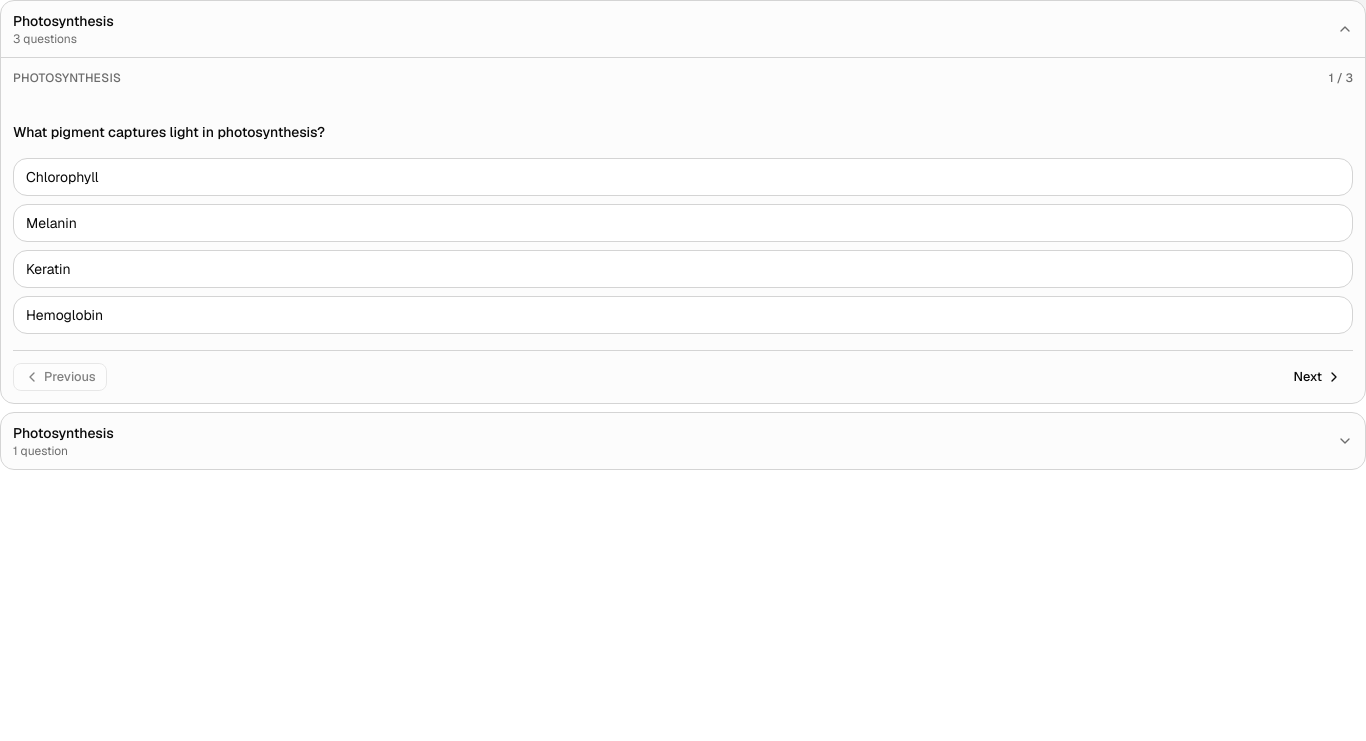
it: QuizPanel multiple quizzes › expanding a collapsed quiz reveals it without disturbing the other quiz's state
Click the button "Chlorophyll".
click(62, 177)  # box x1=13 y1=158 x2=1353 y2=196
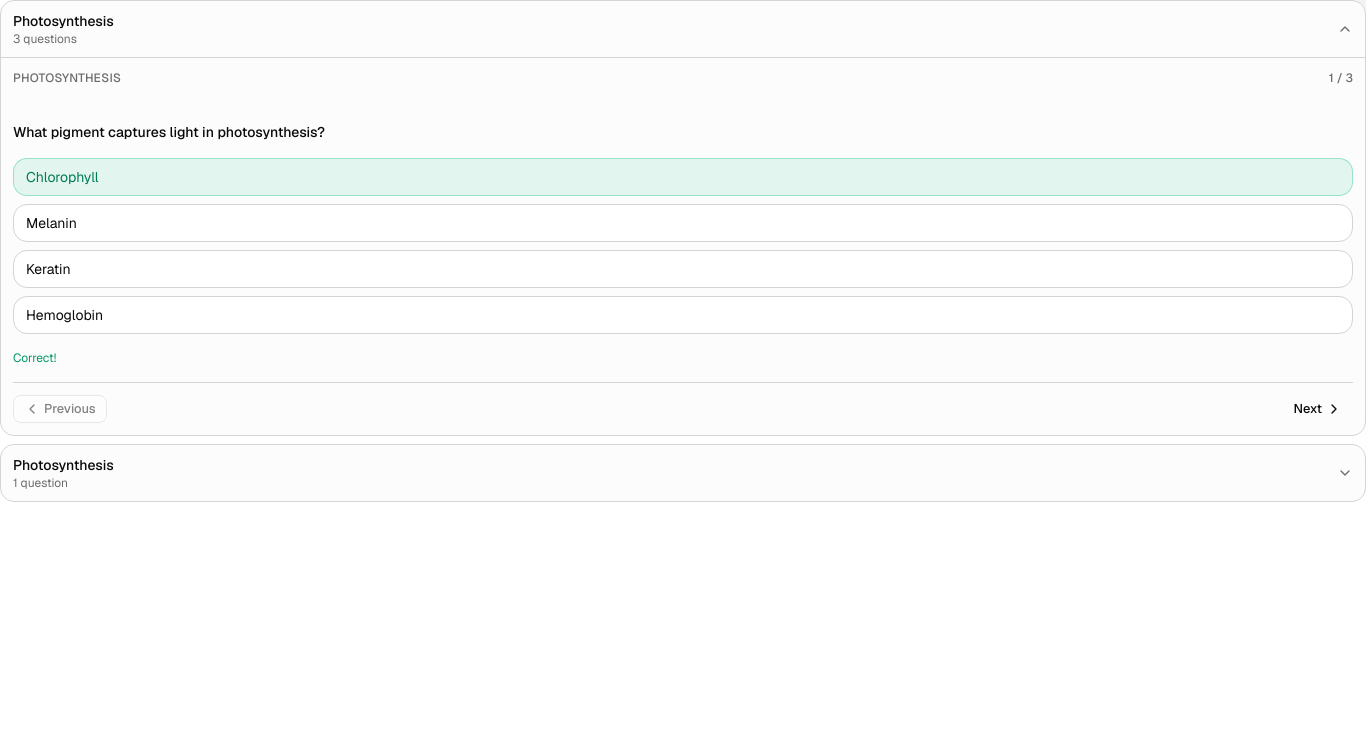
Expected: the text "Correct!" is shown, x1=13 y1=350 x2=56 y2=366
Click the button "Photosynthesis 1 question".
click(63, 465)  # box x1=1 y1=445 x2=1365 y2=501
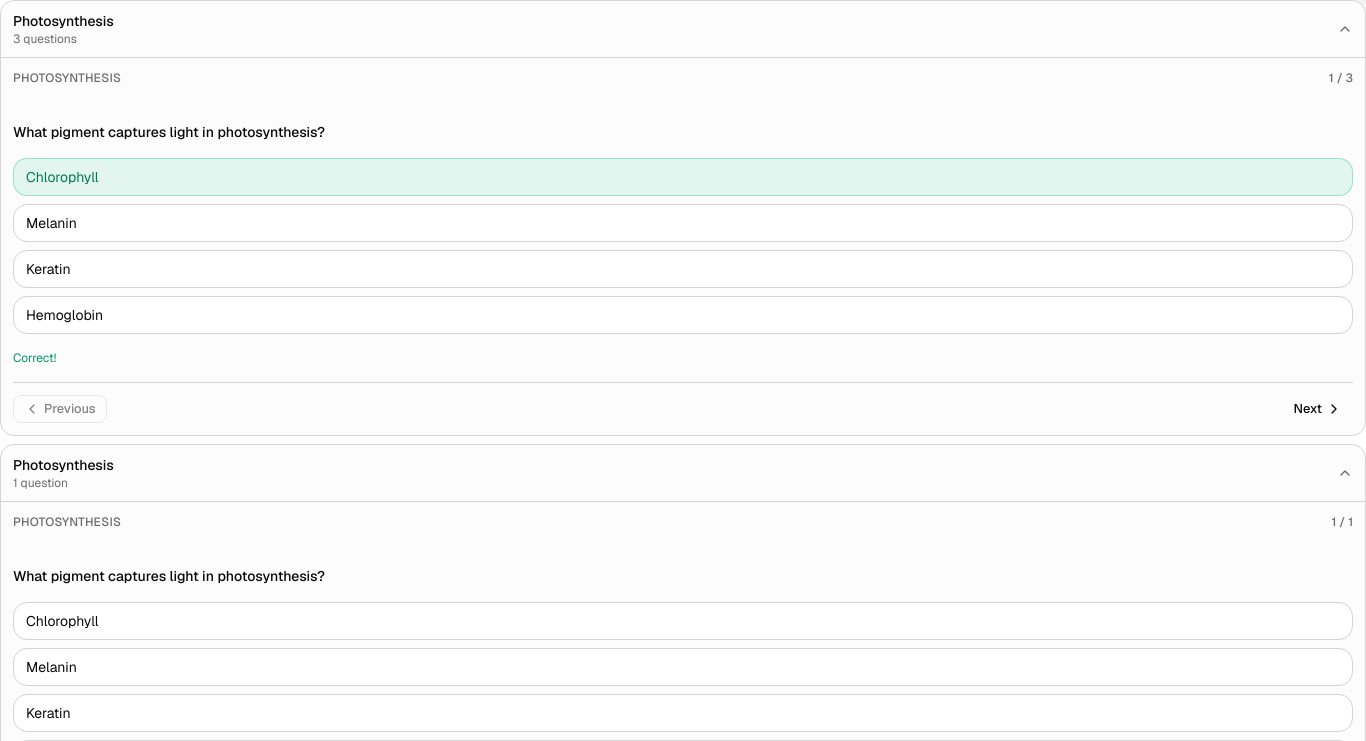
Expected: the text "Correct!" is shown, x1=13 y1=350 x2=56 y2=366
Expected: the button "Photosynthesis 1 question" is expanded, x1=1 y1=445 x2=1365 y2=501
Expected: the 2nd button "Melanin" is enabled, x1=13 y1=648 x2=1353 y2=686
